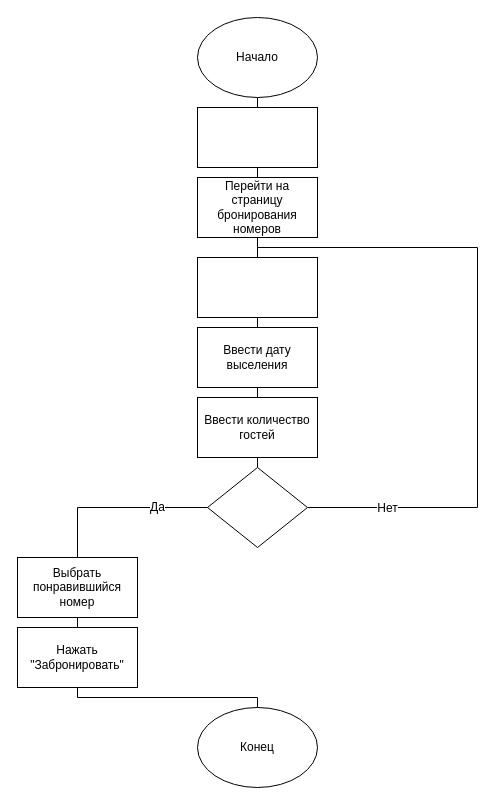
Some shapes in this 496 by 805 pixel diagram are drawn without their labels. The centre of each missing label's shape, as x and y in pixels:
Ввести дату заселения: the point at 257,287
Есть подходящие номера?: the point at 257,507
Пройти авторизацию: the point at 257,137
